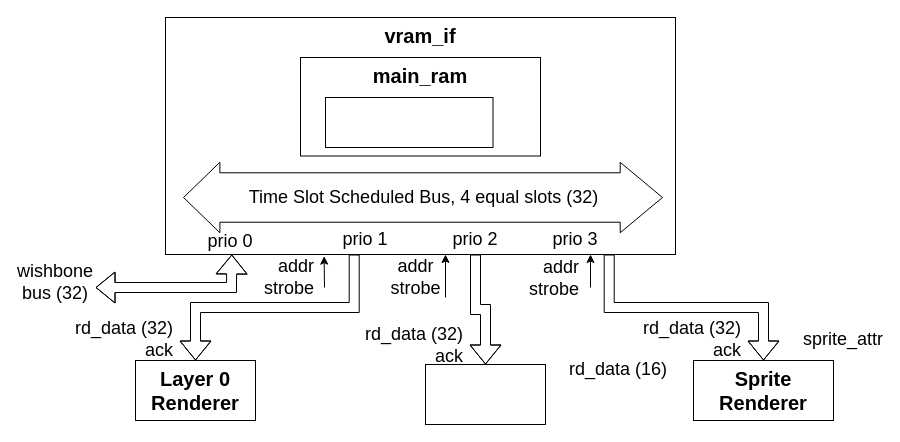
Some shapes in this 900 by 442 pixel diagram are drawn without their labels. The box of each missing label's shape, as (x1, y1, x2, y2) in pixels:
64KB or 128KB SPRAM: (324, 96, 493, 148)
Layer 1 Renderer: (424, 364, 546, 424)
